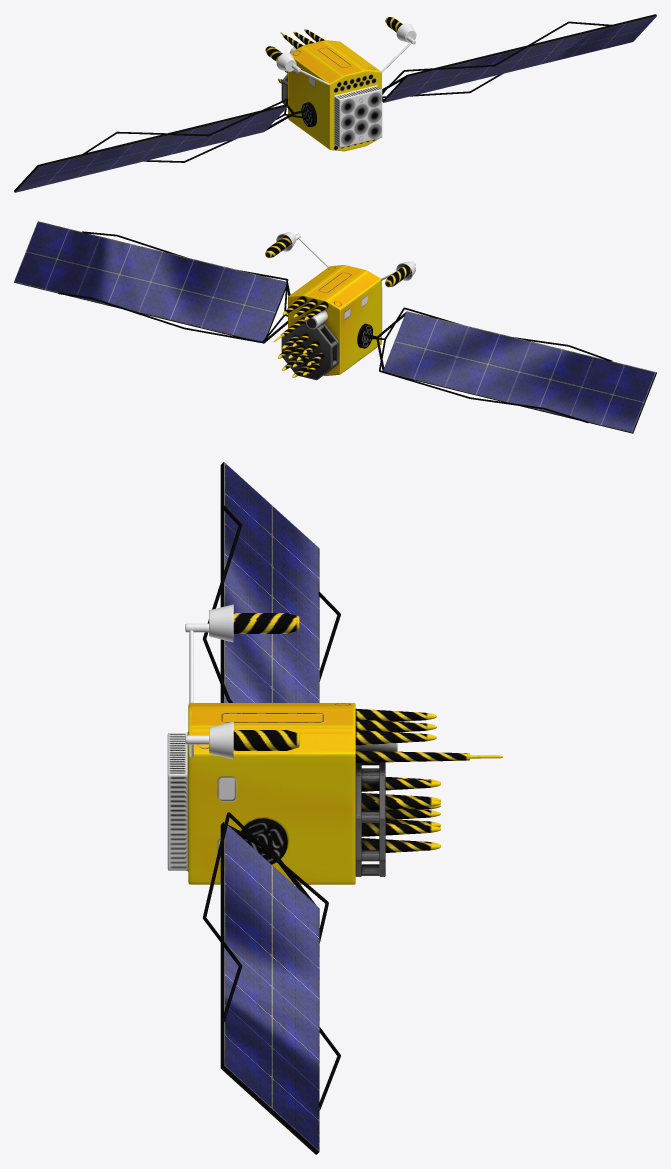
Rendered from CO_Satellite.glb.
3 views of the same model, one above another, from view 1: azimuth 30°, elevation 25°; view 2: azimuth 150°, elevation 25°; view 3: azimuth 270°, elevation 25° (orthographic). The views are drawn at different scales.
Visible parts, largest first — view 1: 10477_Satellite_v1_L3; view 2: 10477_Satellite_v1_L3; view 3: 10477_Satellite_v1_L3.
Part boxes in pixels (x1=…): 10477_Satellite_v1_L3: x1=14, y1=14, x2=656, y2=192; 10477_Satellite_v1_L3: x1=14, y1=221, x2=656, y2=433; 10477_Satellite_v1_L3: x1=167, y1=462, x2=502, y2=1154.
Size of the model in its own units: 5123 by 811 by 1204.
Materials: 1 (1 with a texture image).
